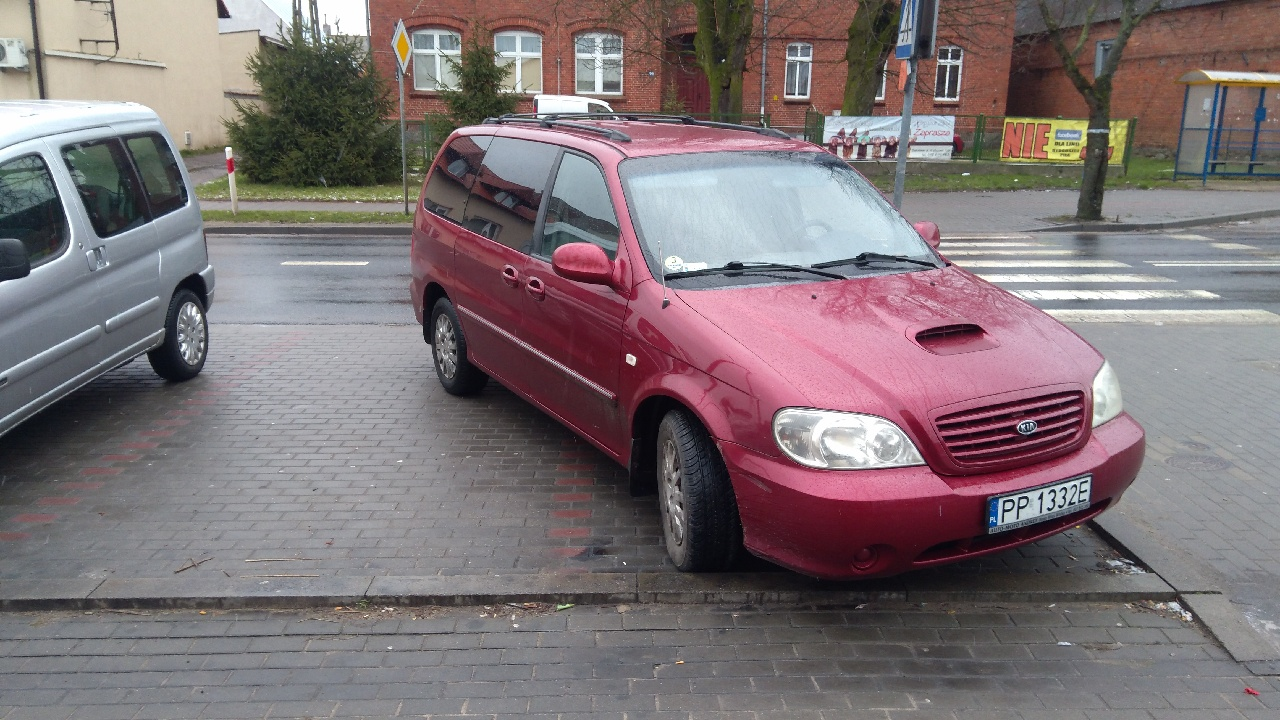D1: (392, 19, 412, 74)
